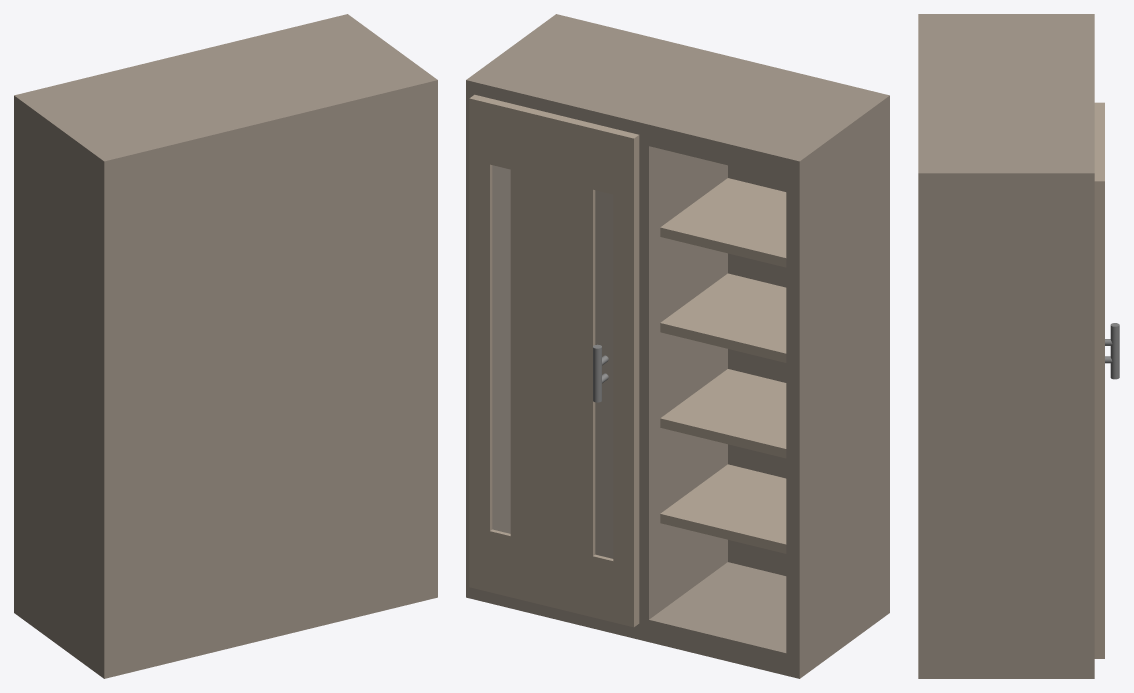
Rendered from Armoire3_3.fbx.
3 views of the same model, side by side, from view 1: azimuth 30°, elevation 25°; view 2: azimuth 150°, elevation 25°; view 3: azimuth 270°, elevation 25° (orthographic). The views are drawn at different scales.
Parts seen in each view (by area): view 1: pCube2359; view 2: pCube2359, pCube2372, pCube2364, pCube2363, pCube2366, pCube2365; view 3: pCube2359, pCube2372, pCylinder1530.
Part boxes in pixels (x1,y1,x2,y2): pCube2359: (14, 14, 437, 678); pCube2359: (466, 14, 889, 678); pCube2372: (469, 94, 639, 627); pCube2364: (660, 273, 786, 362); pCube2363: (660, 178, 786, 267); pCube2366: (660, 464, 786, 553); pCube2365: (660, 369, 786, 458); pCube2359: (918, 14, 1094, 678); pCube2372: (1094, 102, 1104, 658); pCylinder1530: (1110, 323, 1119, 379).
Size of the model in its own units: 81.83 by 121 by 43.7.
